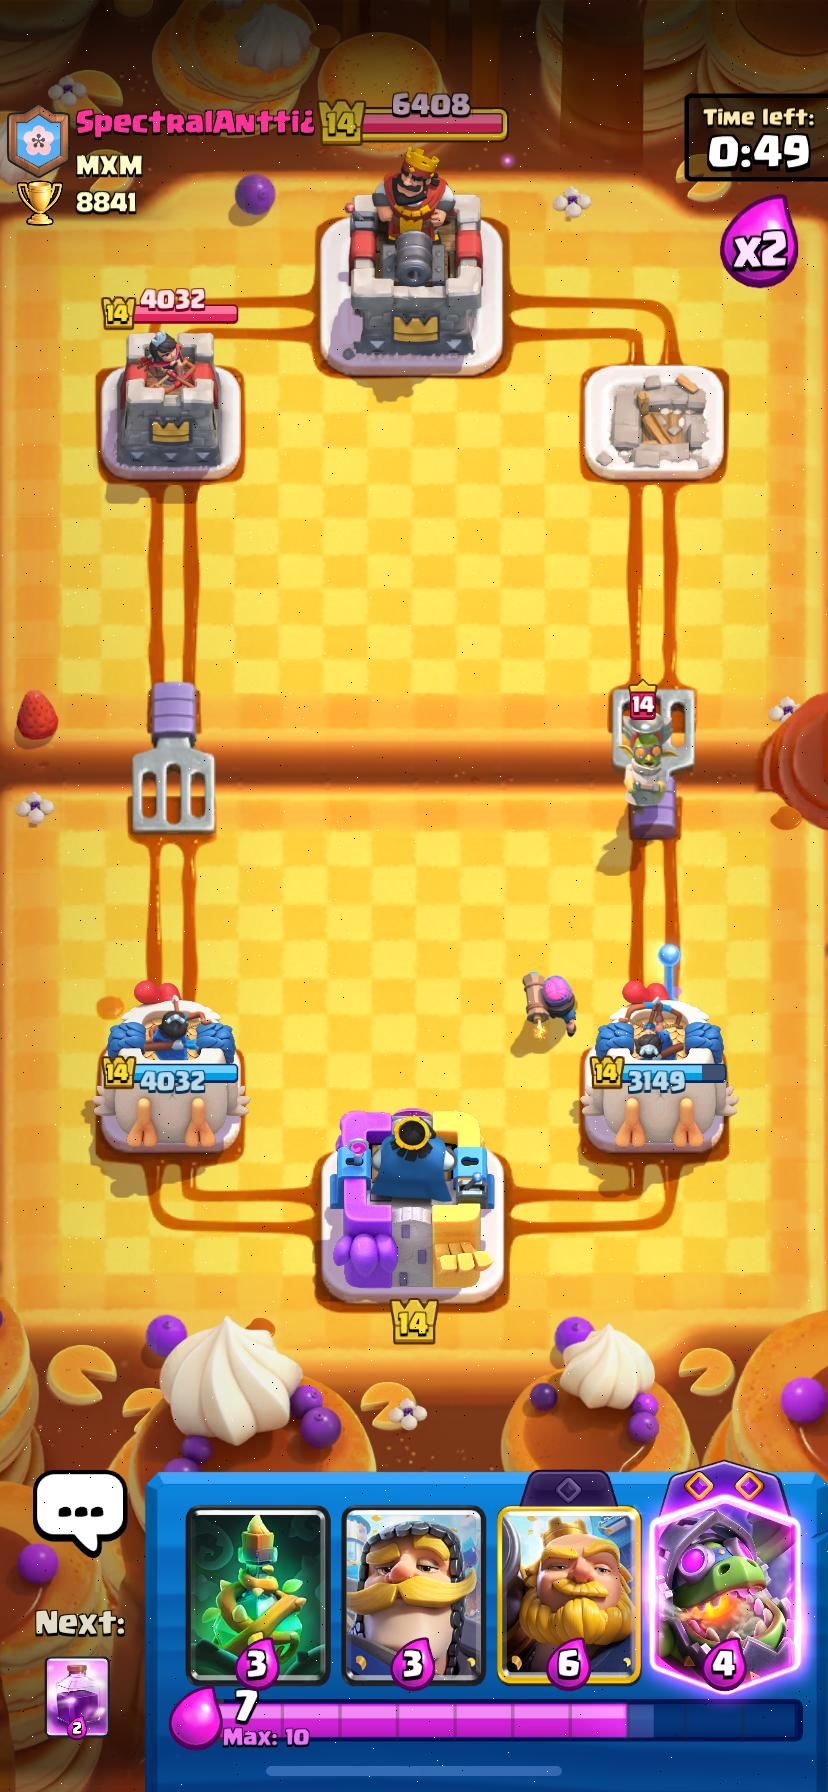EDoctor: (613, 709, 677, 811)
EKingTower: (342, 146, 483, 374)
EnemyPrincessTower: (101, 328, 241, 481)
OFirecrack: (523, 971, 575, 1035)
OwnKingTower: (321, 1109, 503, 1303)
OwnPrincessTower: (580, 982, 737, 1153), (93, 983, 248, 1152)
TowerDown: (584, 363, 724, 482)
